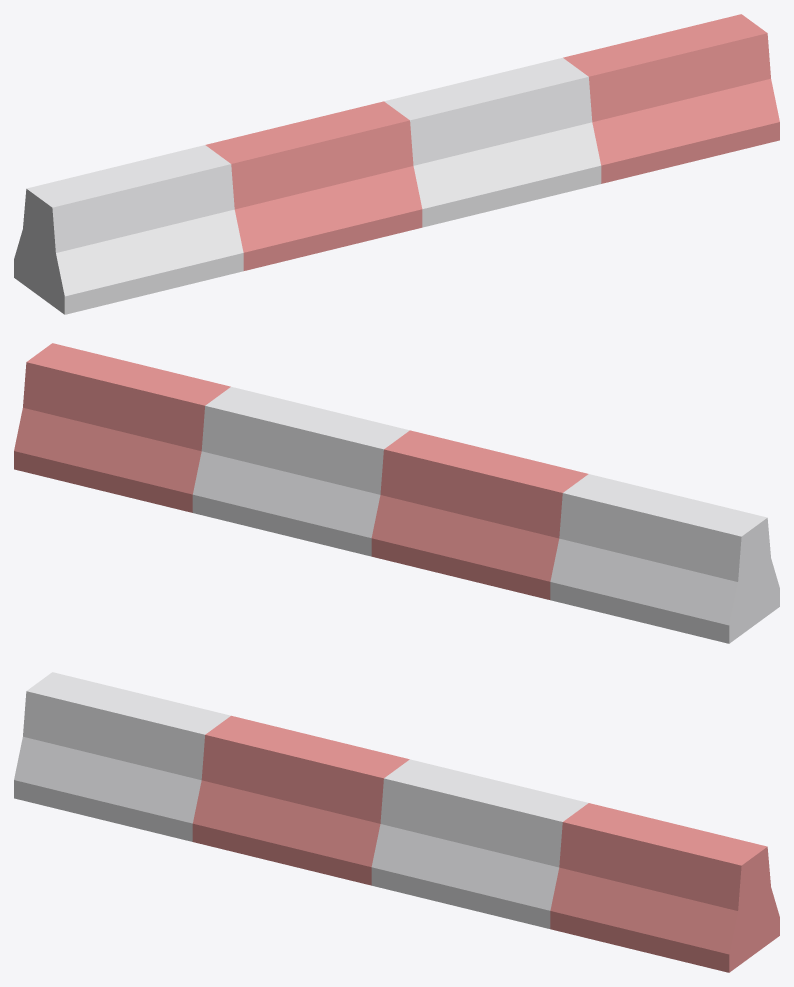
File: barrierWall.glb
3 views of the same model, one above another, from view 1: azimuth 30°, elevation 25°; view 2: azimuth 150°, elevation 25°; view 3: azimuth 330°, elevation 25° (orthographic).
Visible parts, largest first — view 1: barrierWall; view 2: barrierWall; view 3: barrierWall.
Part boxes in pixels (x1,y1,x2,y2): barrierWall: [14, 14, 779, 314]; barrierWall: [14, 343, 779, 643]; barrierWall: [14, 672, 779, 972].
Bounding box in the file's own units: 1 × 0.1312 × 0.123.
